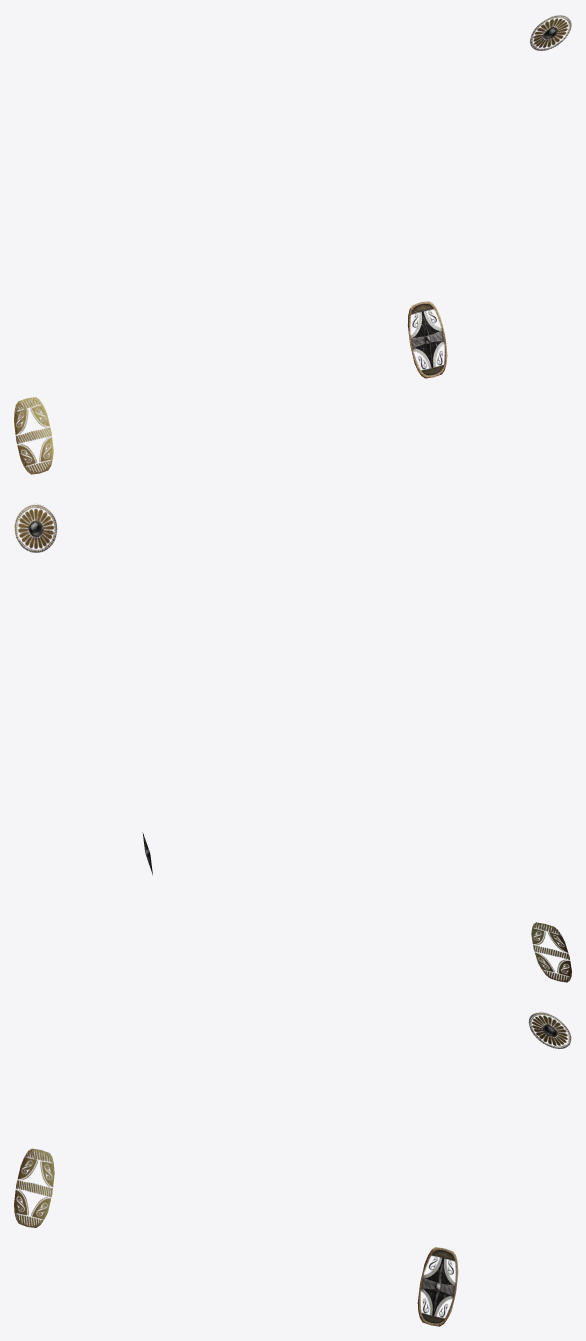
File: iber_wallgate_shields.glb
The picture shows the model from 3 angles, top to bottom: view 1: azimuth 30°, elevation 25°; view 2: azimuth 150°, elevation 25°; view 3: azimuth 330°, elevation 25°; orthographic projection. The views are drawn at different scales.
Visible parts, largest first — view 1: Cylinder25; view 2: Cylinder25; view 3: Cylinder25.
Part boxes in pixels (bbox=[...]): Cylinder25: bbox=[14, 15, 571, 474]; Cylinder25: bbox=[14, 504, 571, 982]; Cylinder25: bbox=[14, 1012, 571, 1326].
Bounding box in the file's own units: 22 × 12.91 × 1.24.
Materials: 1 (1 with a texture image).
